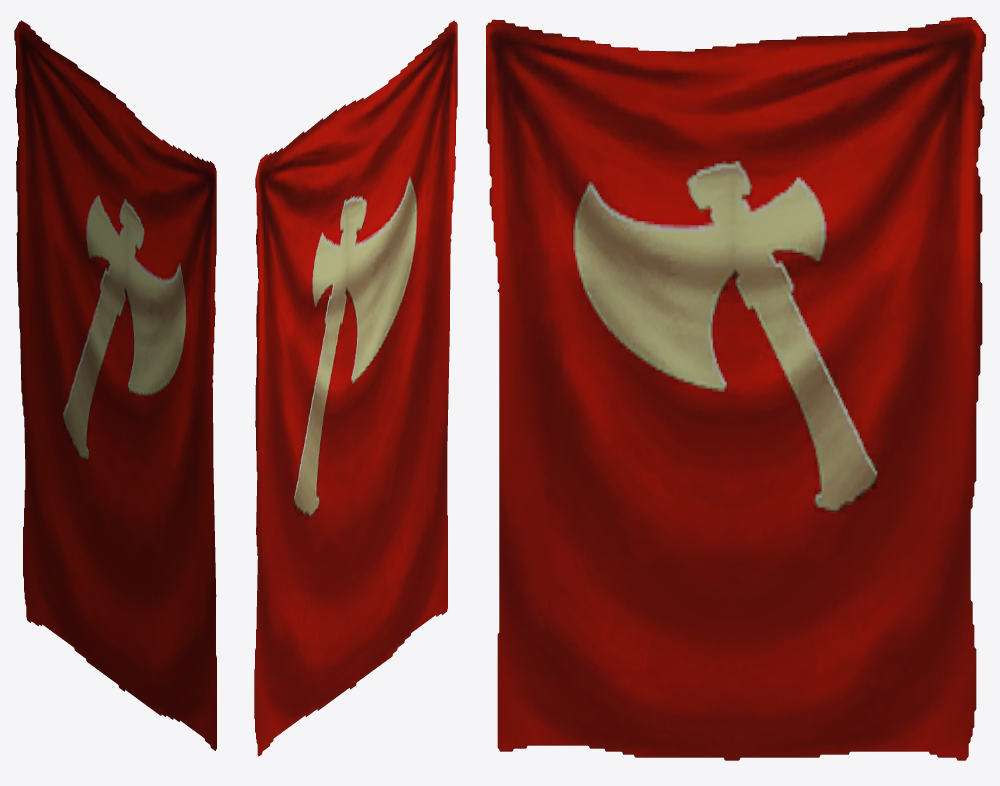
Rendered from warriorbanner01.obj.
3 views of the same model, side by side, from view 1: azimuth 30°, elevation 25°; view 2: azimuth 150°, elevation 25°; view 3: azimuth 270°, elevation 25° (orthographic). The views are drawn at different scales.
Bounding box in the file's own units: 0.1184 × 6.46 × 3.88.
Materials: 1 (1 with a texture image).
